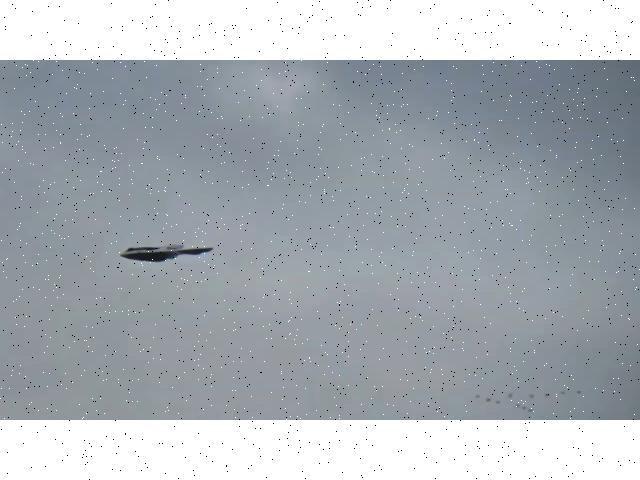Anti-Drone: (120, 243, 214, 265)
